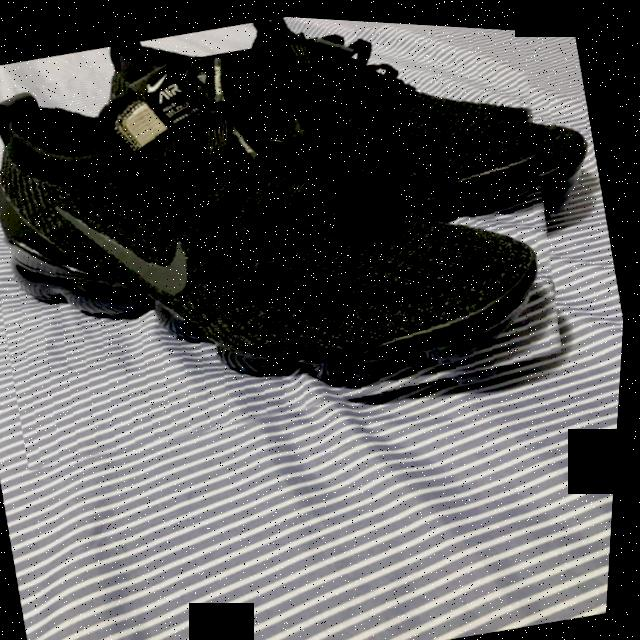shoe: (0, 0, 603, 496), (94, 5, 613, 301)
